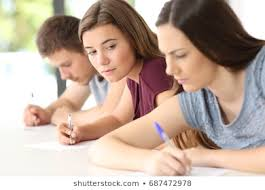student_copying: (47, 1, 164, 158)
